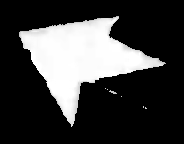Plane: (2, 4, 170, 138)
